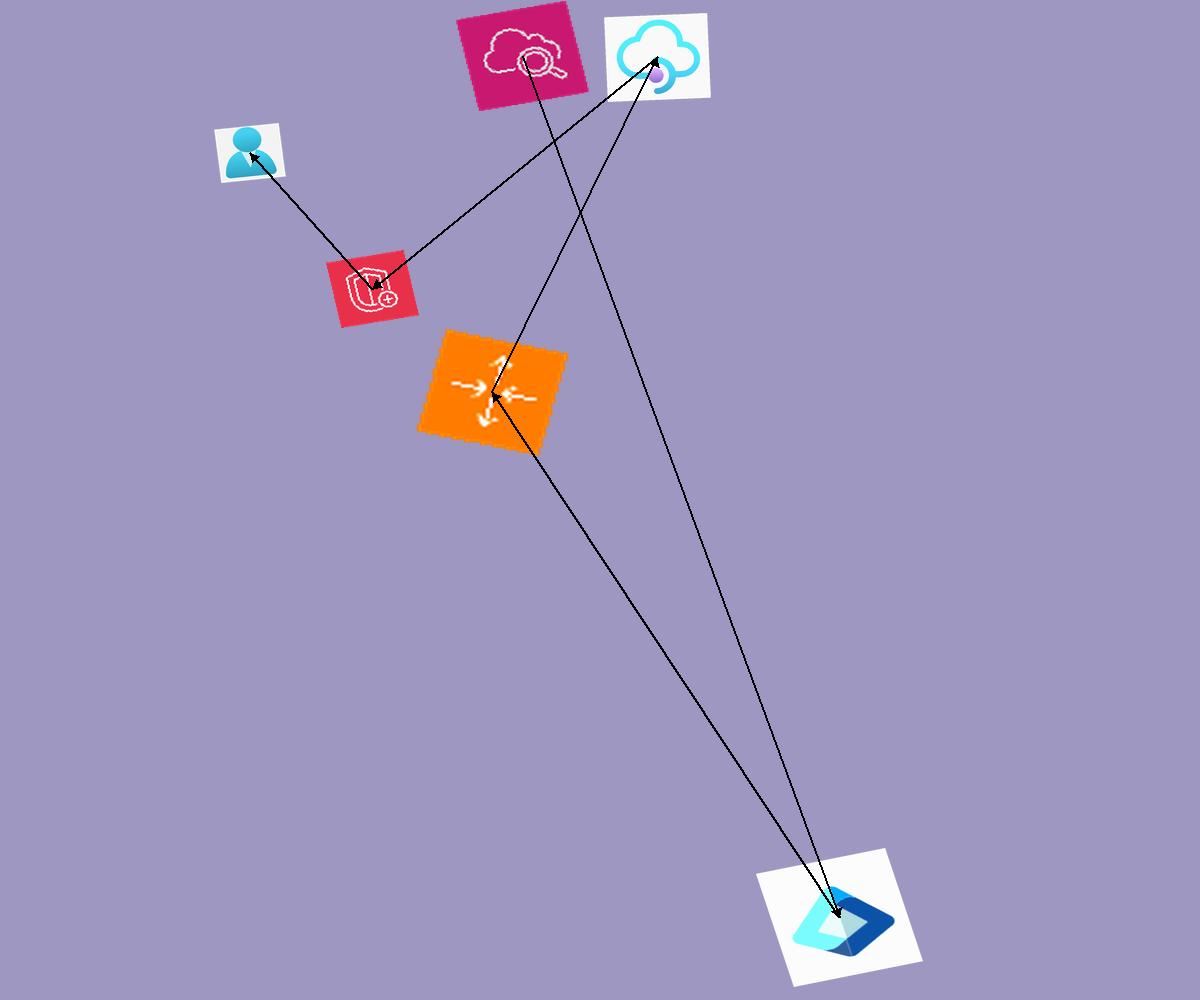AWS-CloudWatch: (455, 0, 590, 112)
AWS-Scaling-group: (414, 327, 571, 458)
AWS-Shield: (326, 250, 419, 328)
Azure_api_gateway: (604, 13, 711, 102)
Azure_microsoft_entra: (756, 848, 923, 987)
Azure_users: (214, 123, 286, 183)
